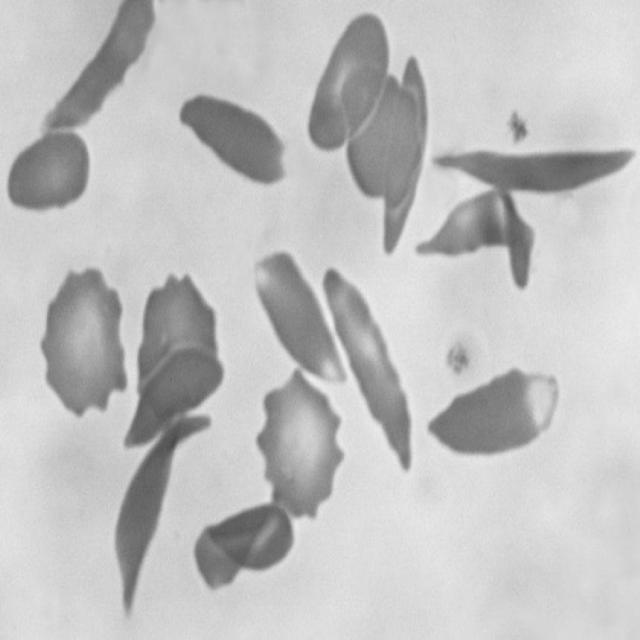sickle cell: (105, 406, 212, 619), (315, 262, 413, 487), (32, 0, 172, 135), (432, 132, 640, 209)
